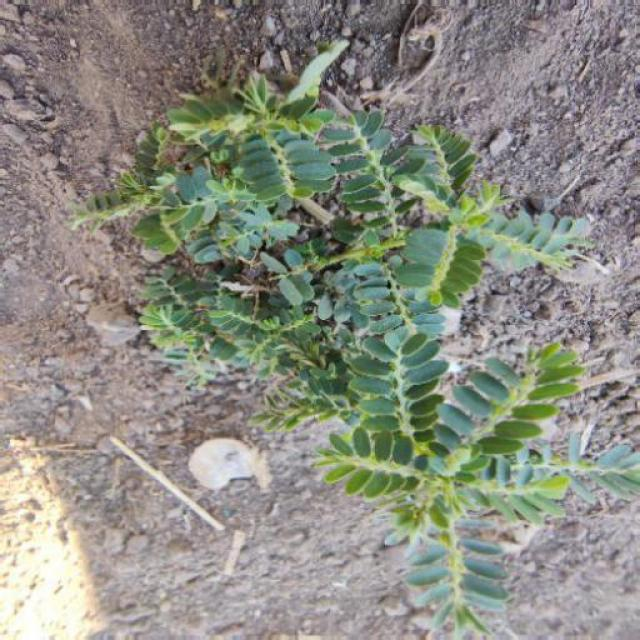weed: (99, 75, 586, 631)
